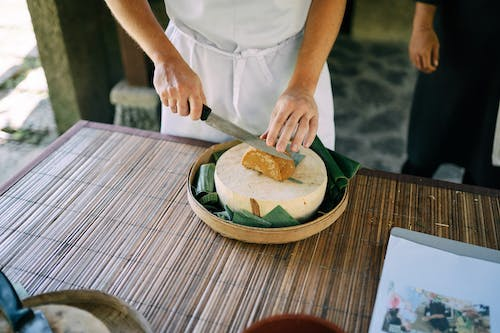knife: (199, 103, 293, 161)
